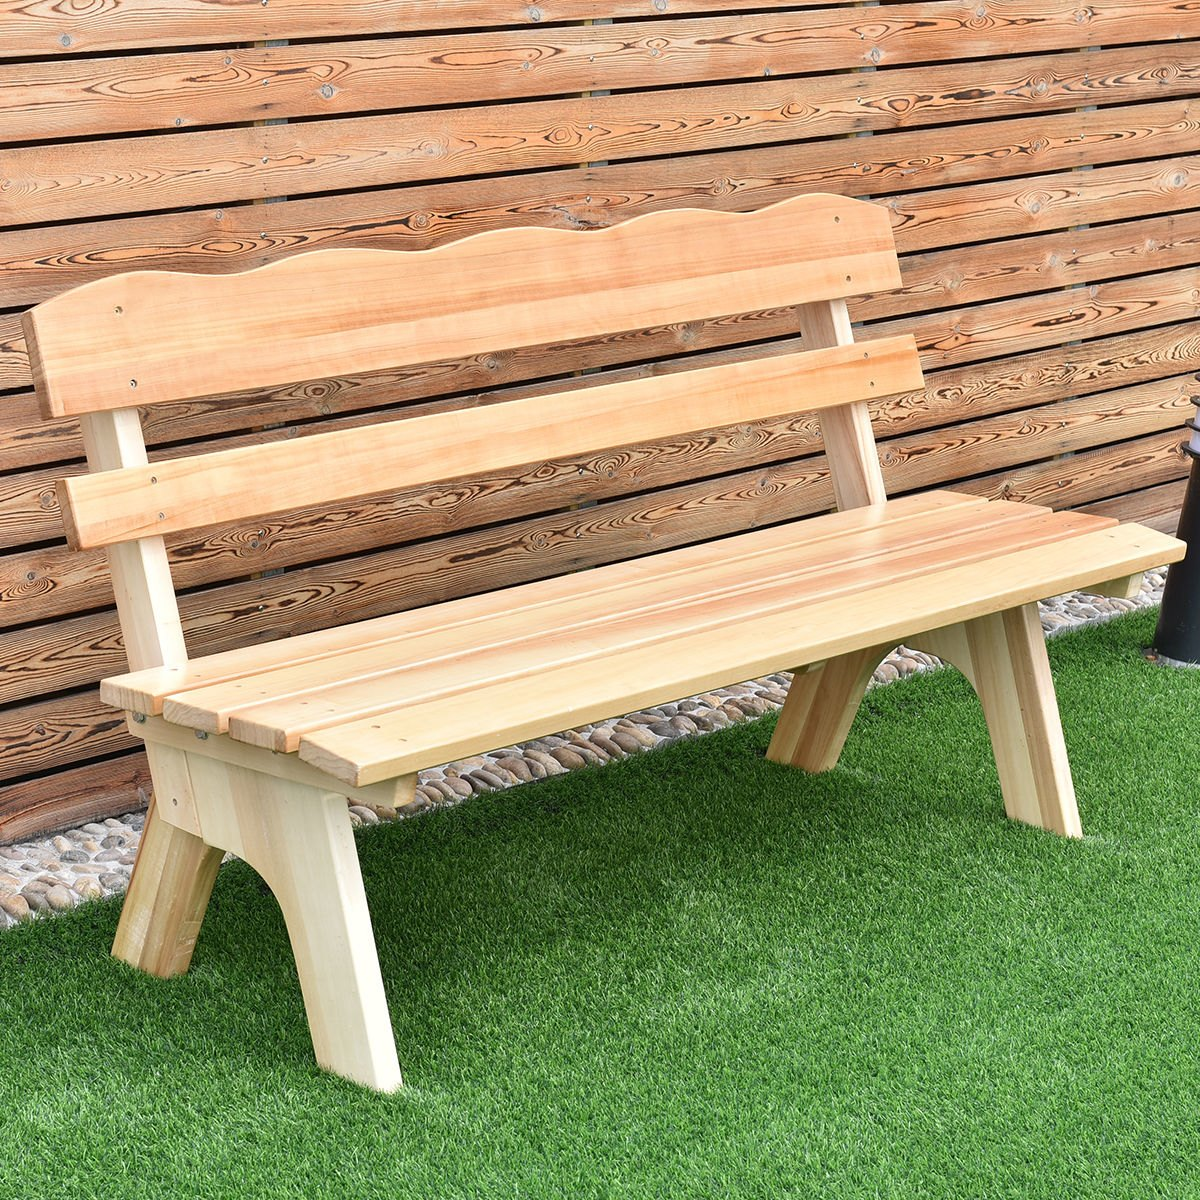chairs: (31, 192, 1185, 1112)
